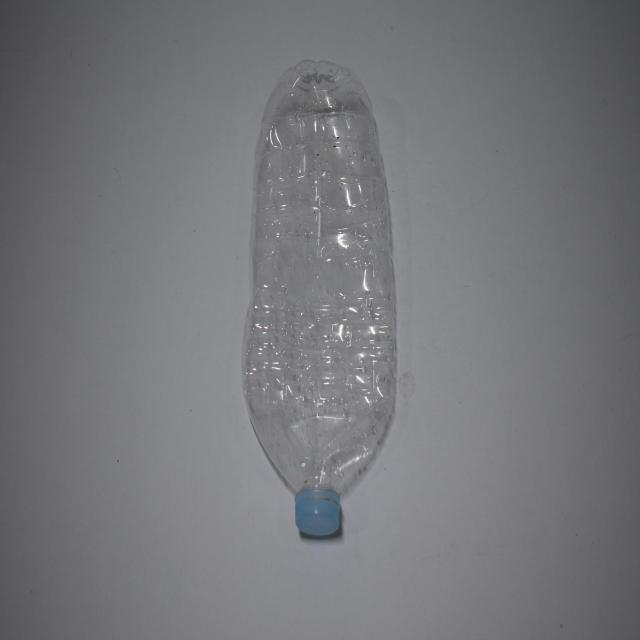bottle: (238, 25, 408, 546)
